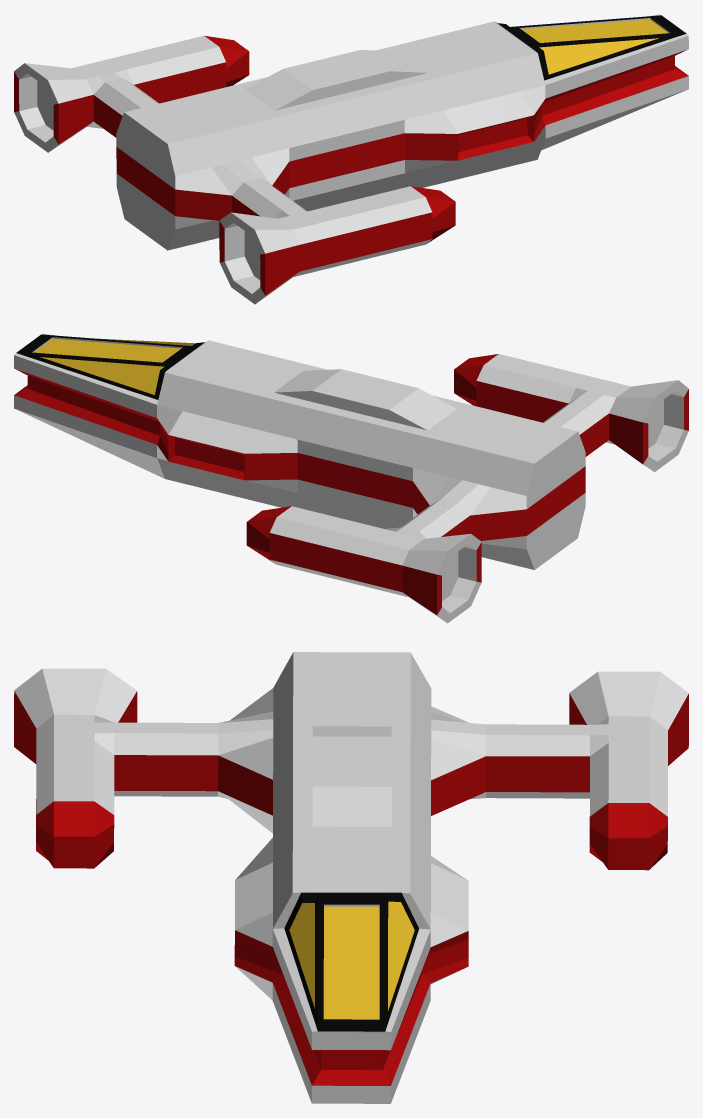
File: ShipFinal.fbx
3 views of the same model, one above another, from view 1: azimuth 30°, elevation 25°; view 2: azimuth 150°, elevation 25°; view 3: azimuth 270°, elevation 25° (orthographic). The views are drawn at different scales.
Parts seen in each view (by area): view 1: Ship.002; view 2: Ship.002; view 3: Ship.002.
Boxes of the visible parts, x1,y1,x2,y2 form: Ship.002: (14,14,688,304); Ship.002: (14,333,688,623); Ship.002: (14,652,688,1103).
Size of the model in its own units: 1048 by 222 by 855.
